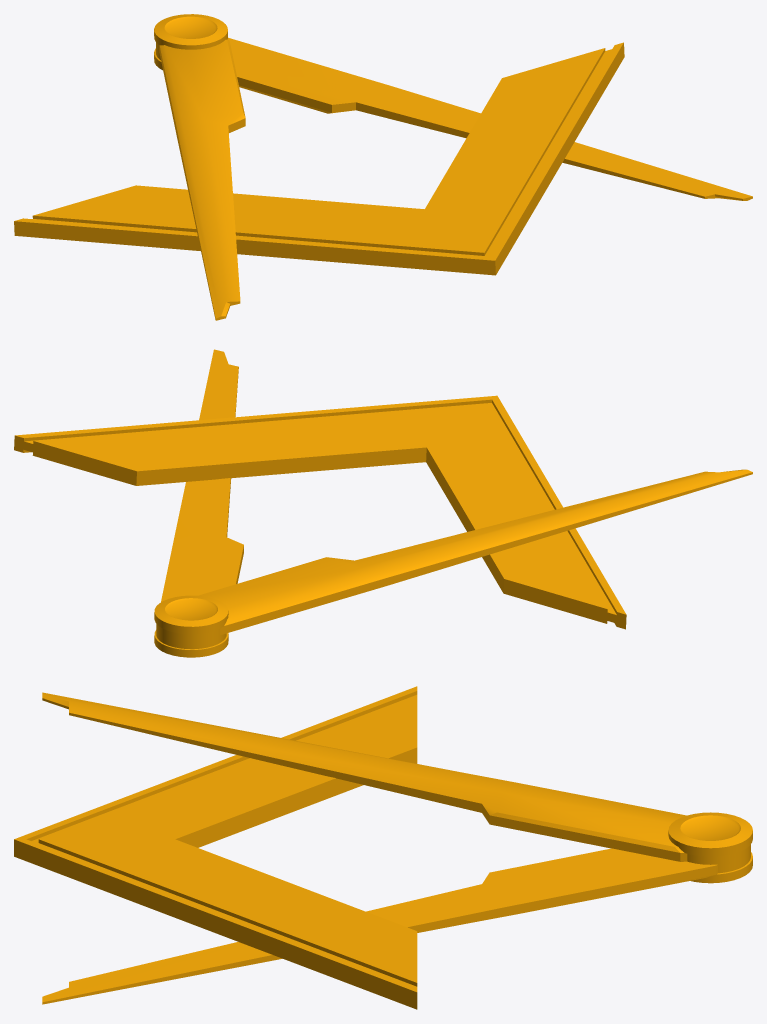
Rendered from squareCompass.obj.
3 renders of one model, top to bottom at view 1: azimuth 30°, elevation 25°; view 2: azimuth 150°, elevation 25°; view 3: azimuth 270°, elevation 25°, orthographic. The views are drawn at different scales.
Parts seen in each view (by area): view 1: Plane.001; view 2: Plane.001; view 3: Plane.001.
Part boxes in pixels (bbox=[...]): Plane.001: bbox=[14, 14, 752, 320]; Plane.001: bbox=[14, 349, 752, 657]; Plane.001: bbox=[14, 686, 752, 1009].
Bounding box in the file's own units: 3.97 × 0.2785 × 3.64.
